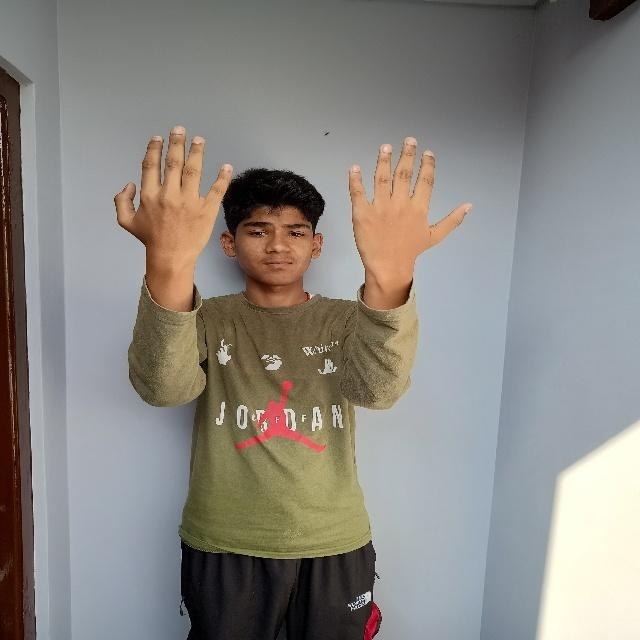Moutza: (333, 133, 478, 304), (110, 117, 238, 290)
